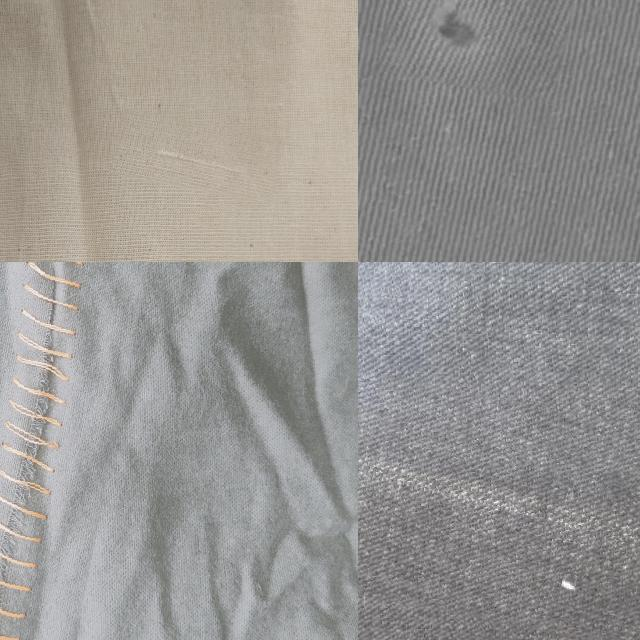Thread_out: (0, 262, 147, 640)
other: (380, 0, 570, 97)
stains: (358, 375, 640, 640), (113, 114, 281, 198)
